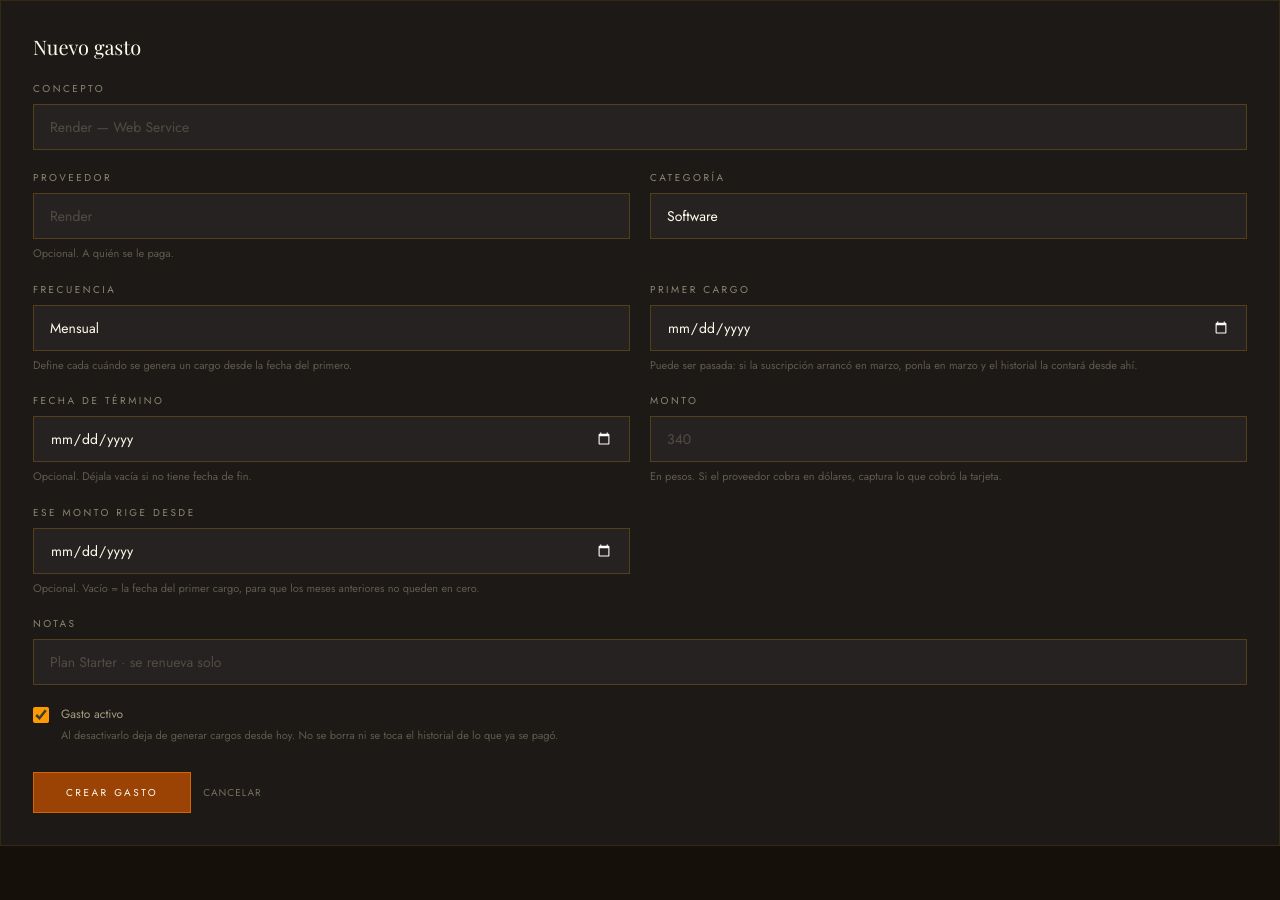
Test: ExpenseForm › validación (espejo del backend) › exige la fecha del primer cargo
In the field labelled "Concepto": (640, 127) [33,104,1247,150], type "Gasto de prueba"
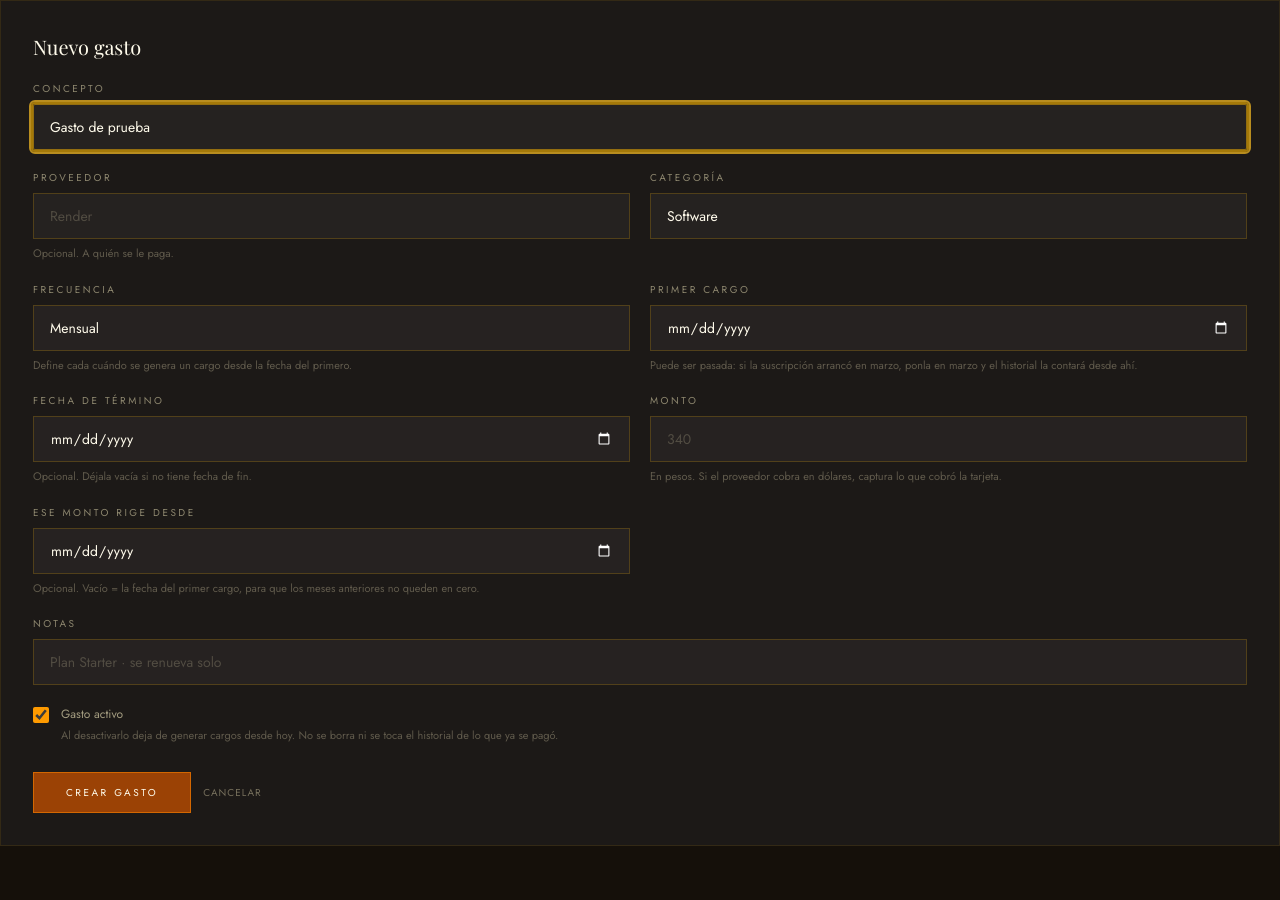
In the field labelled "Monto": (948, 439) [650,416,1247,462], type "290"
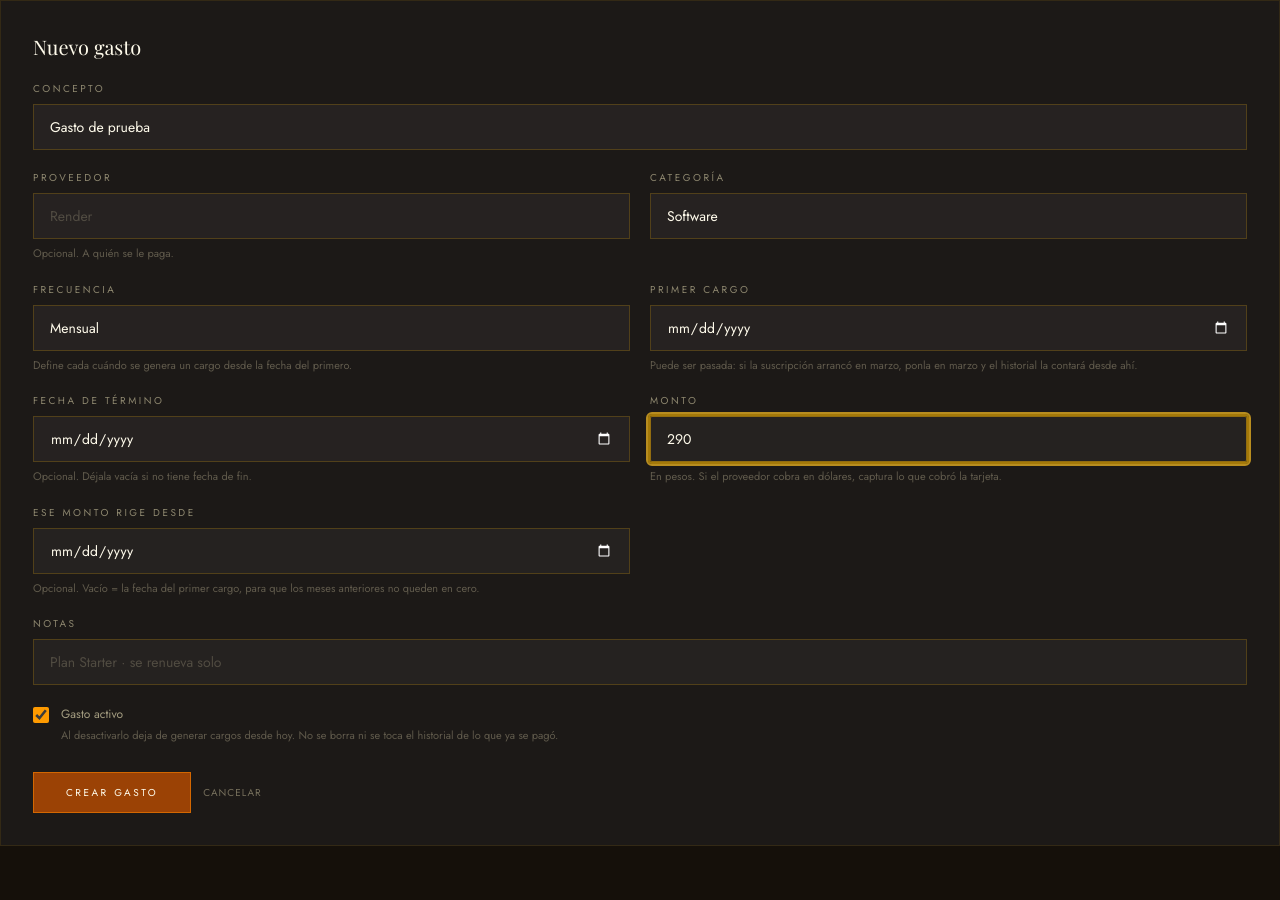
Click the button "Crear gasto": (112, 793) [33,772,191,813]
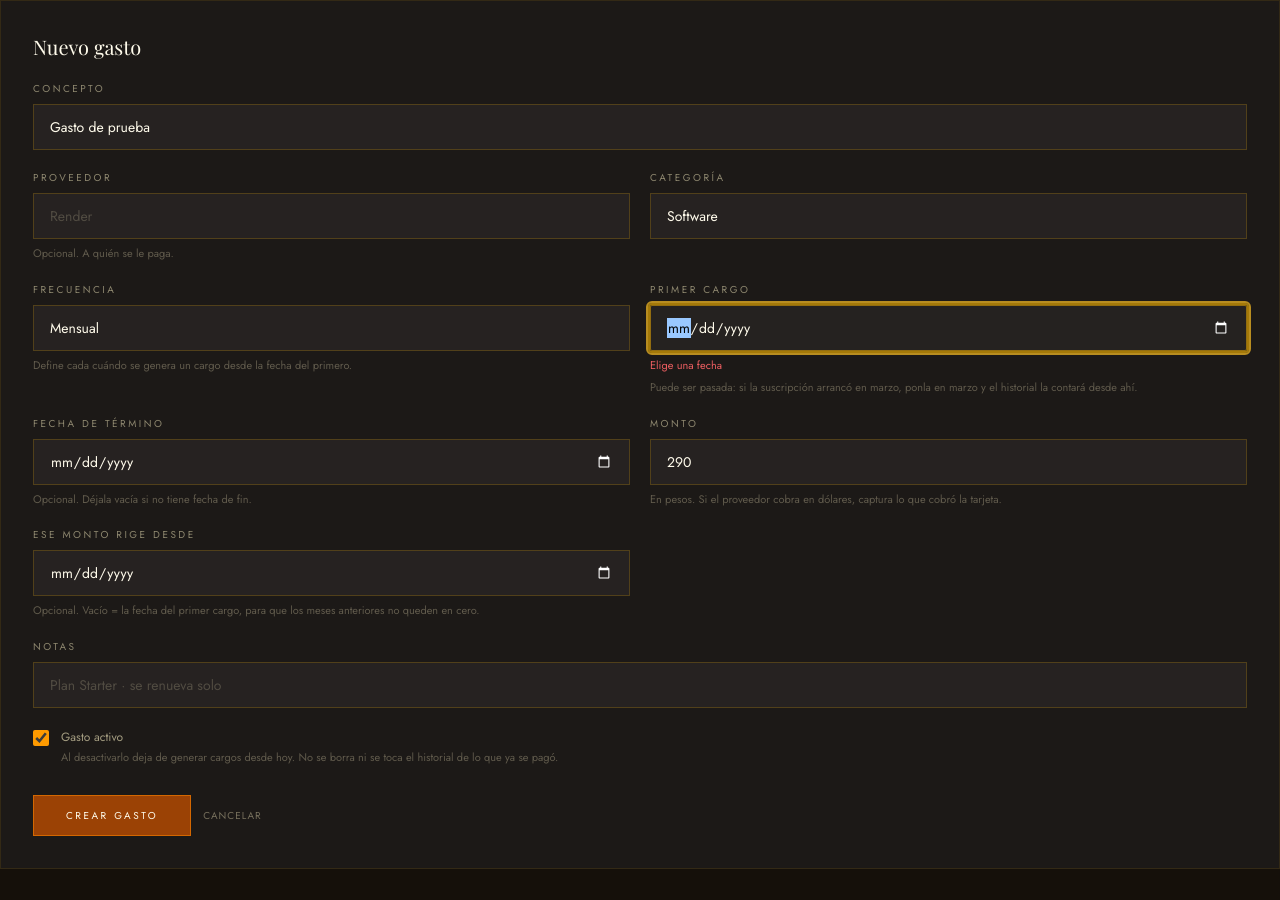
Now the text "Elige una fecha" is shown, box [650,356,722,372]
